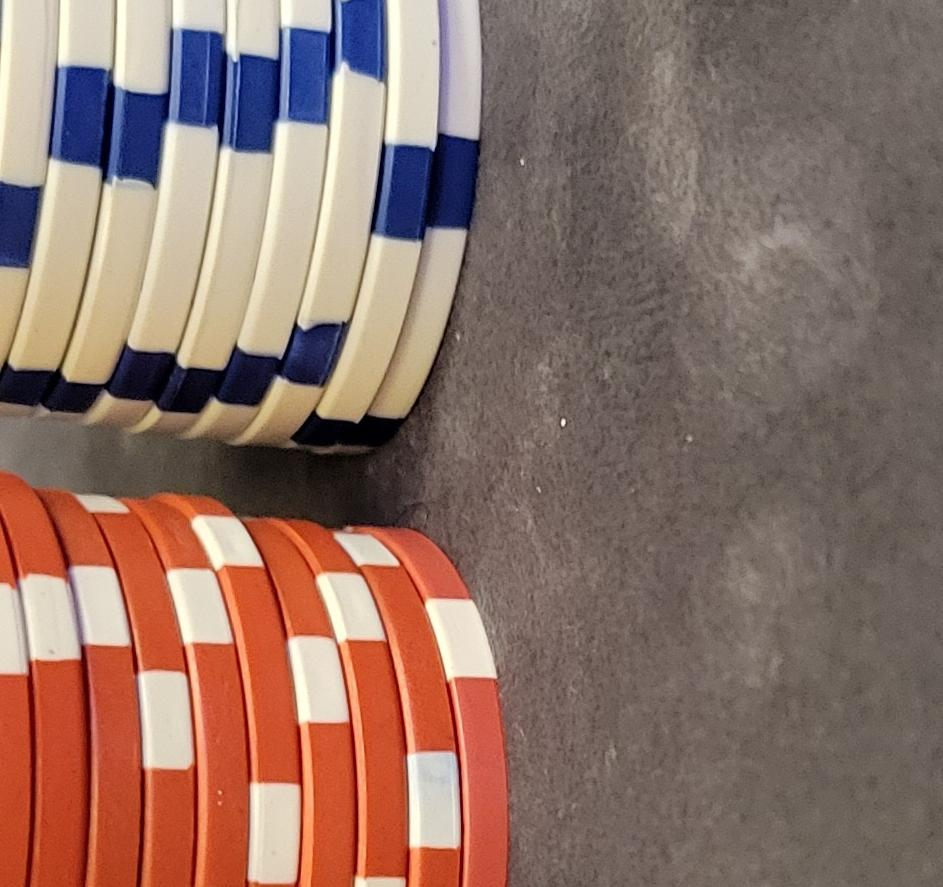Chip: (1, 239, 319, 887)
